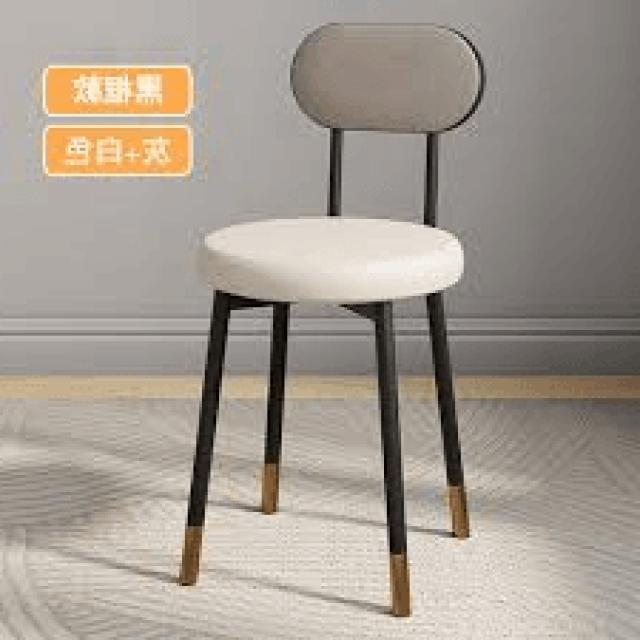chair: (175, 16, 490, 618), (210, 18, 494, 284)
